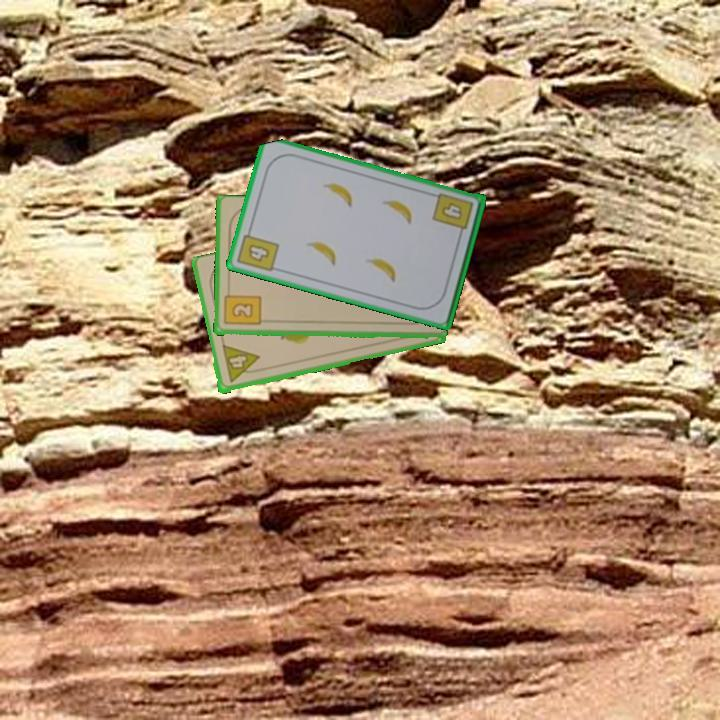2b: (220, 286, 263, 328)
4b: (234, 224, 282, 275), (429, 190, 476, 240)
4p: (219, 342, 264, 386)
